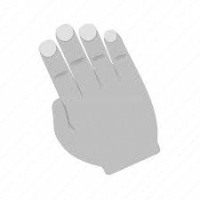ring: (73, 23, 121, 87)
